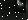person: (16, 1, 27, 14)
